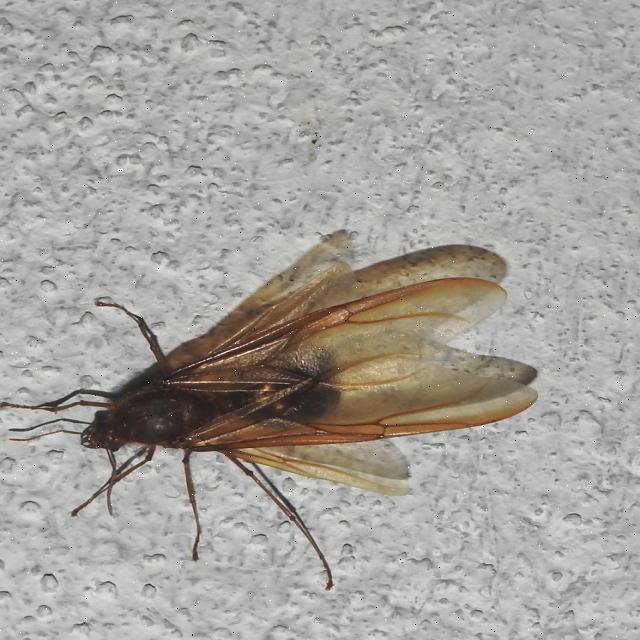Alive-Male-Alate: (0, 262, 538, 590)
